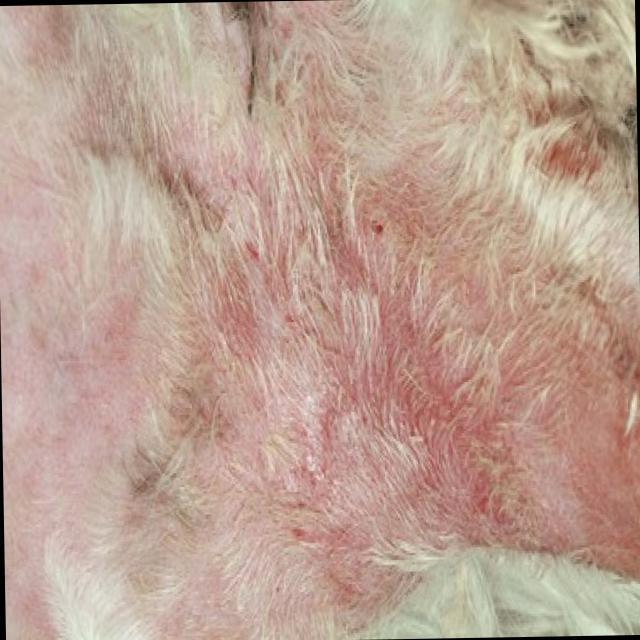fungal infection: (381, 218, 624, 411), (301, 406, 588, 541), (0, 240, 140, 481), (206, 206, 396, 342), (282, 2, 384, 166), (282, 499, 420, 597), (566, 404, 640, 562), (511, 94, 624, 190), (0, 162, 70, 232), (0, 5, 84, 58), (338, 200, 412, 256), (194, 132, 253, 197), (9, 470, 83, 519)
